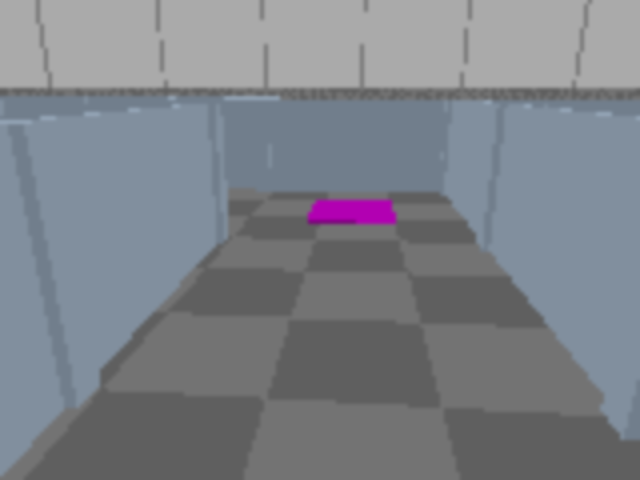goal_zone: (307, 201, 397, 224)
